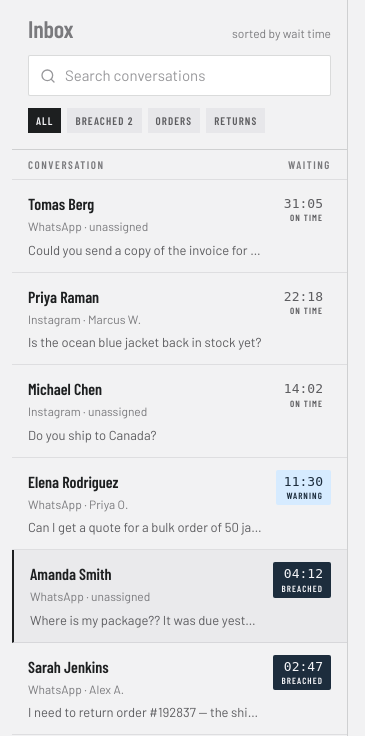
Test: ConversationList › says so when a filter matches nothing
Step 1. Type "zzzzz" into the search field labelled "Search conversations" → (180, 76), box [28,55,331,96]
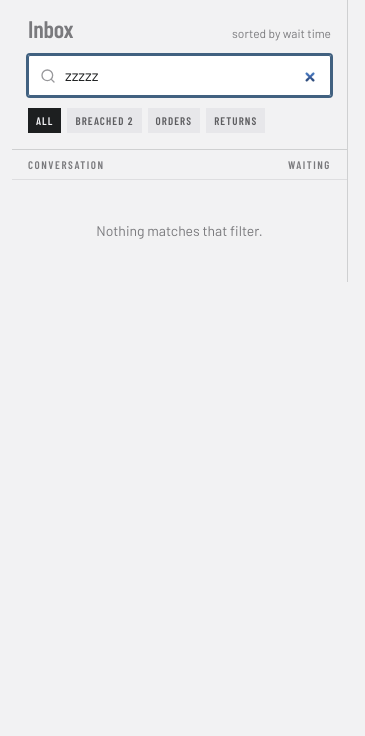
Check: the list item "Nothing matches that filter." is shown, box [96,222,263,239]
